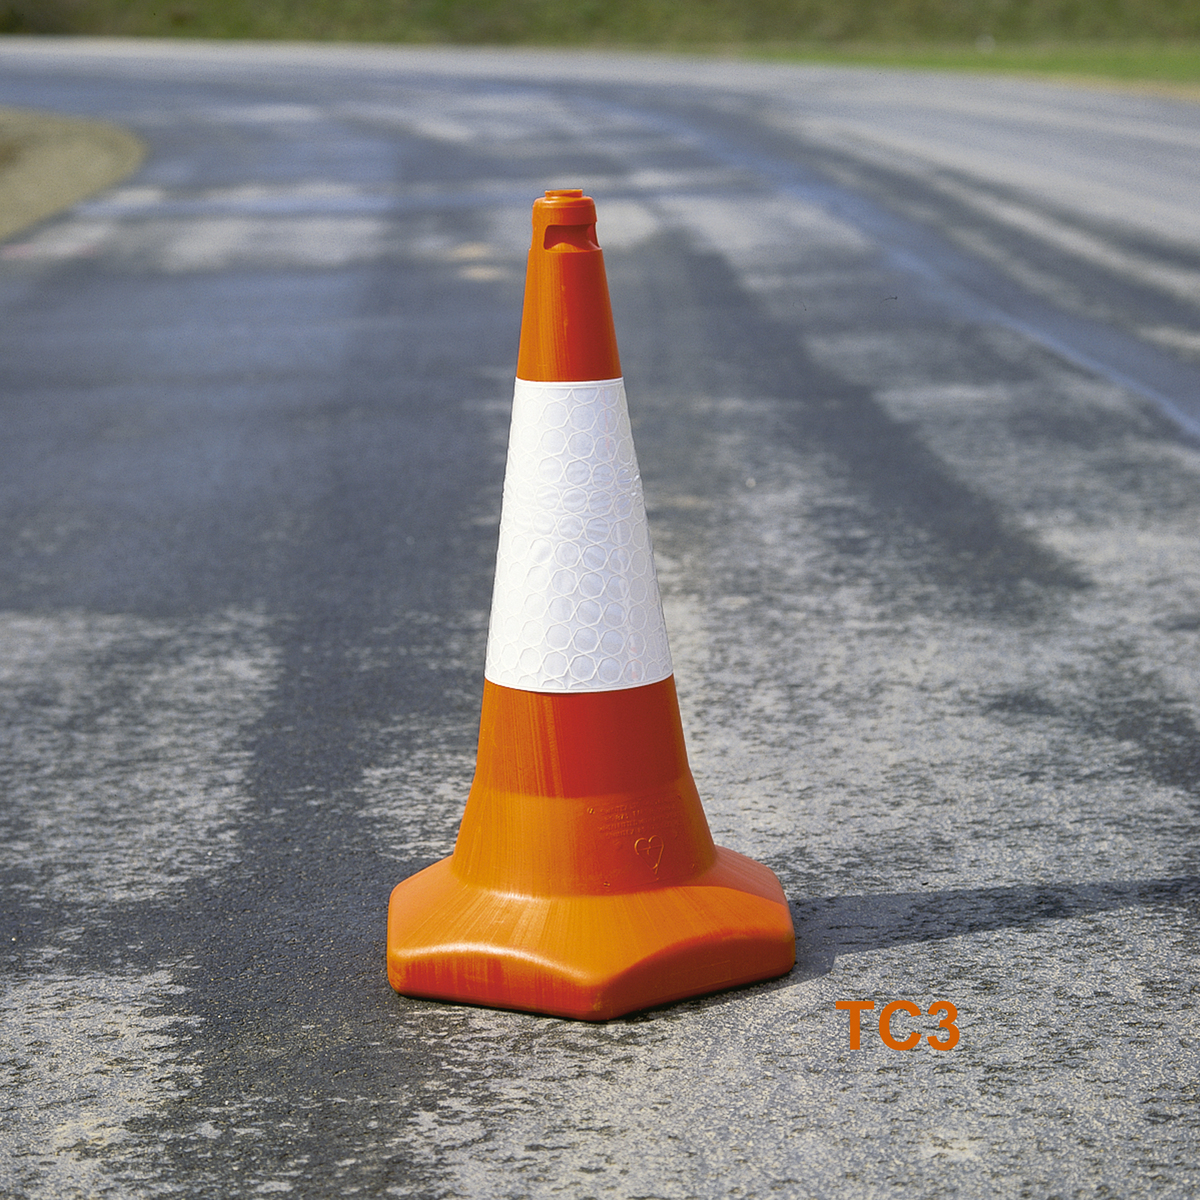cone: (380, 188, 795, 1020)
